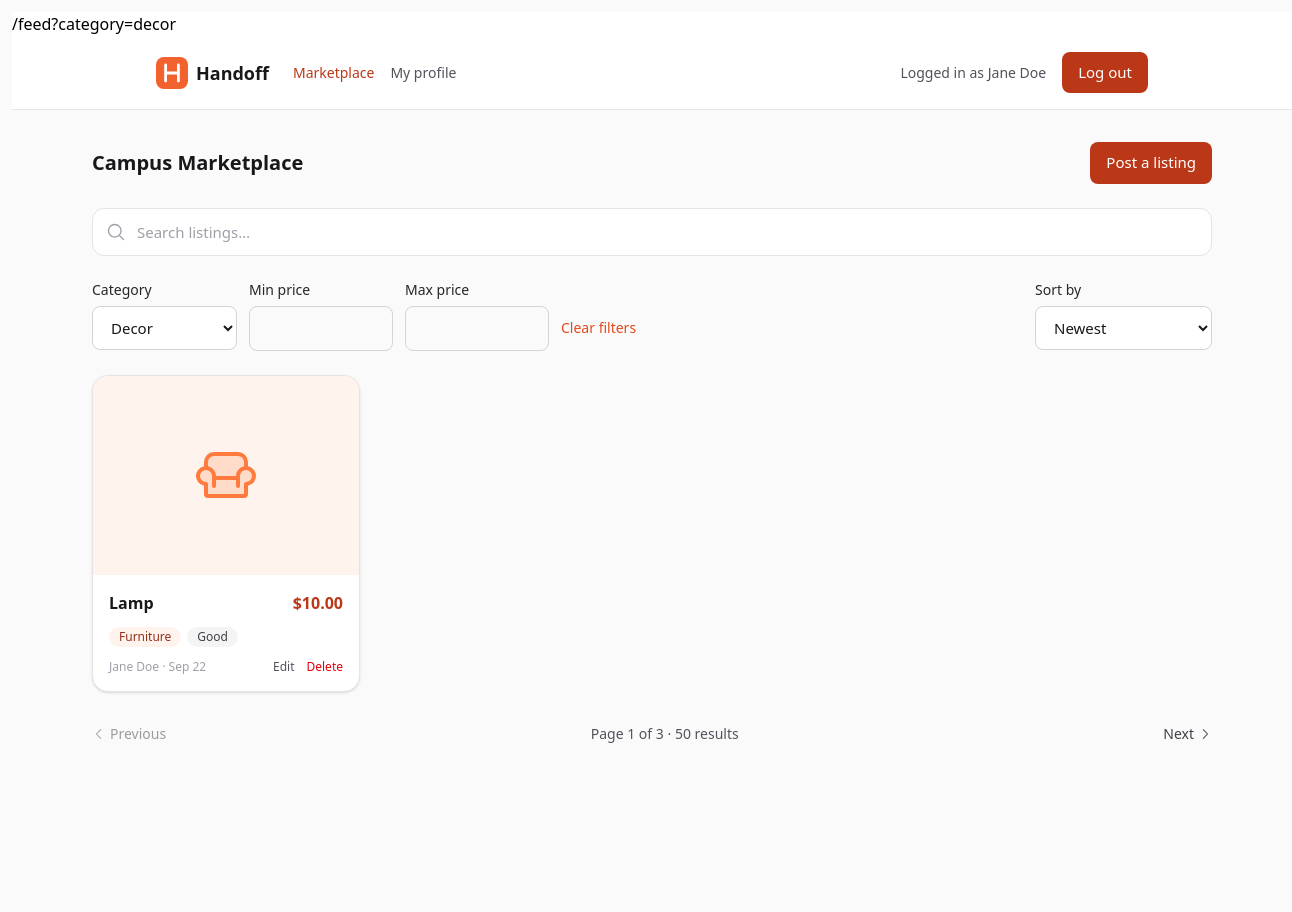
Test: FeedPage › shows pagination and moves to the next page keeping filters
The width and height of the screenshot is (1292, 912).
Expected: the text "Page 1 of 3 · 50 results" is shown, [591,724,739,744]
Expected: the button "Previous" is disabled, [92,724,166,744]
Click the button "Next".
click(1188, 734)  # box [1163,724,1212,744]
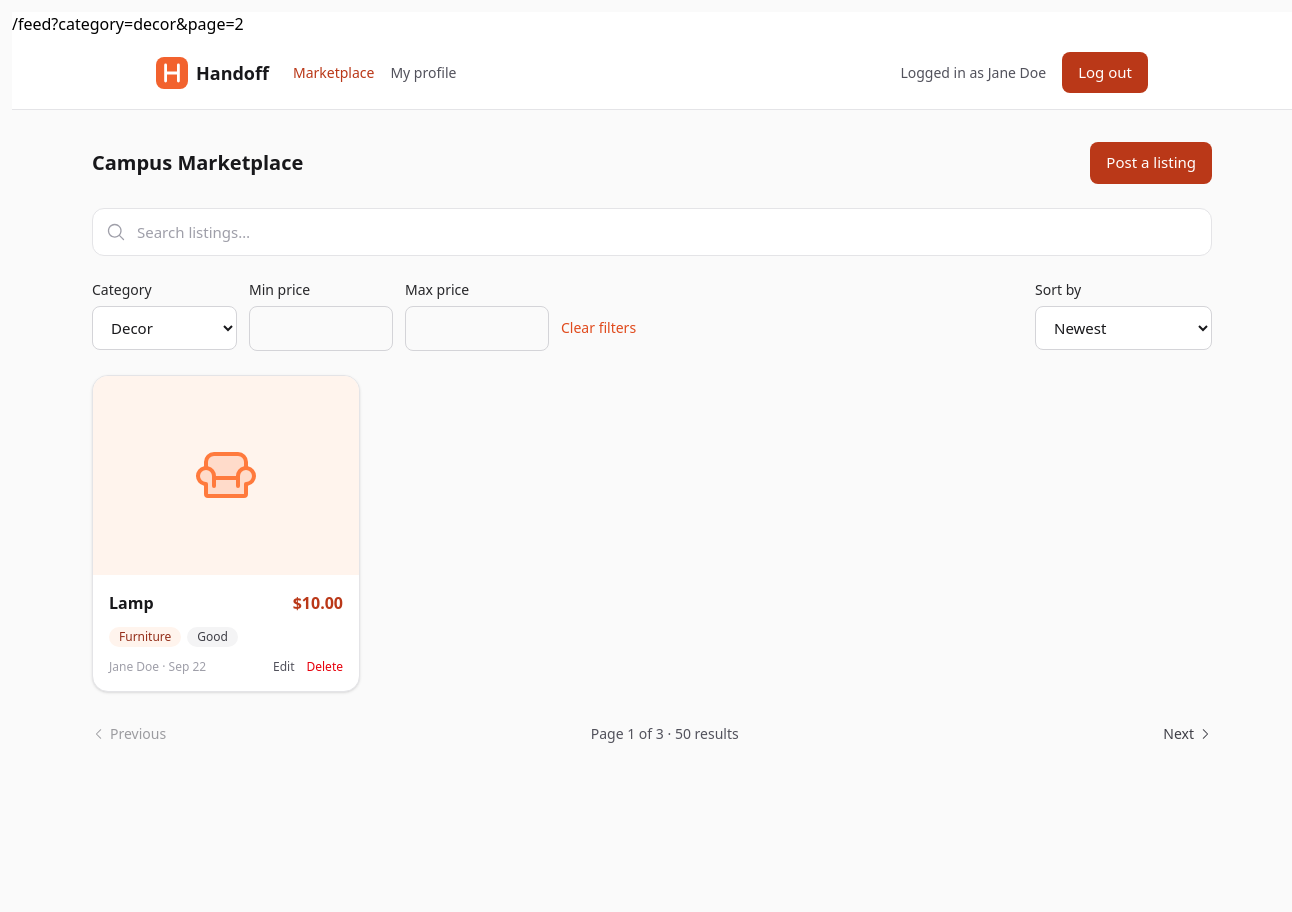
Expected: the text with test id "location" reads "/feed?category=decor&page=2", [12,13,244,35]
